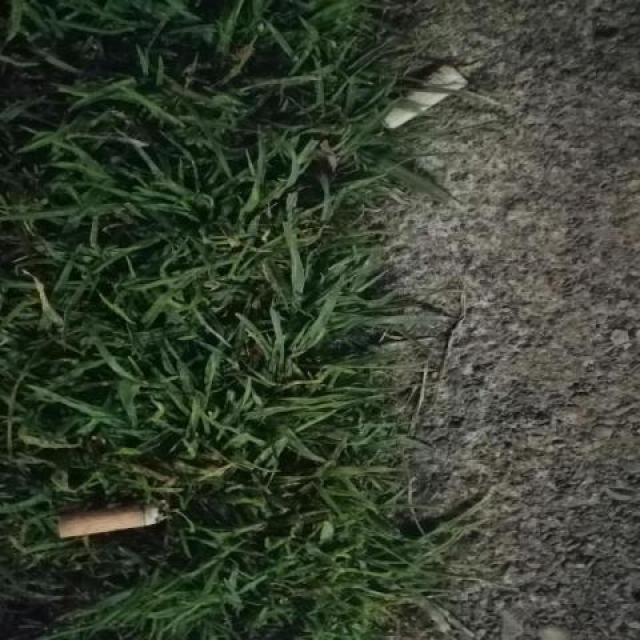non-organic waste: (374, 56, 474, 139), (51, 493, 169, 544)
